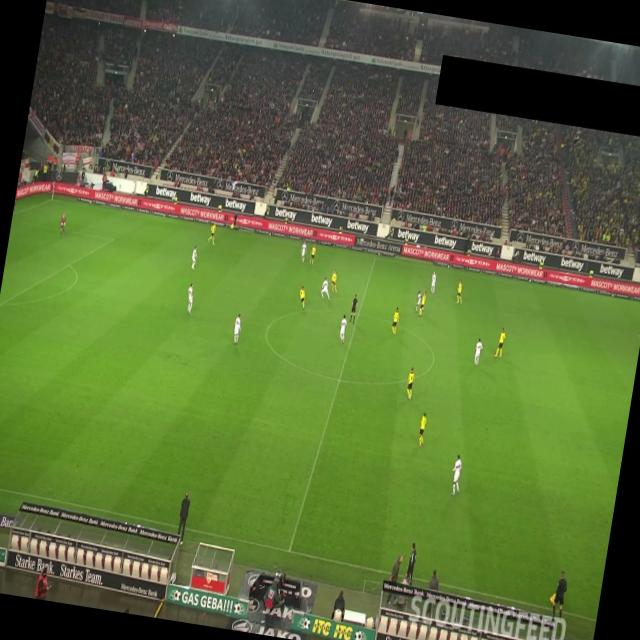goalkeeper: (58, 212, 68, 236)
player: (449, 453, 465, 496), (416, 411, 428, 448), (494, 326, 507, 359), (404, 366, 416, 401), (184, 282, 197, 314), (232, 312, 244, 345), (320, 275, 334, 301), (472, 336, 484, 366), (391, 306, 402, 336), (298, 284, 310, 311), (454, 278, 466, 305), (329, 268, 341, 294), (338, 313, 348, 344), (418, 288, 428, 317), (207, 222, 218, 246), (429, 270, 438, 296), (299, 238, 308, 264), (190, 244, 199, 270), (414, 290, 423, 314), (309, 242, 318, 266)
referee: (546, 568, 570, 626), (349, 293, 359, 324), (229, 210, 239, 232)
